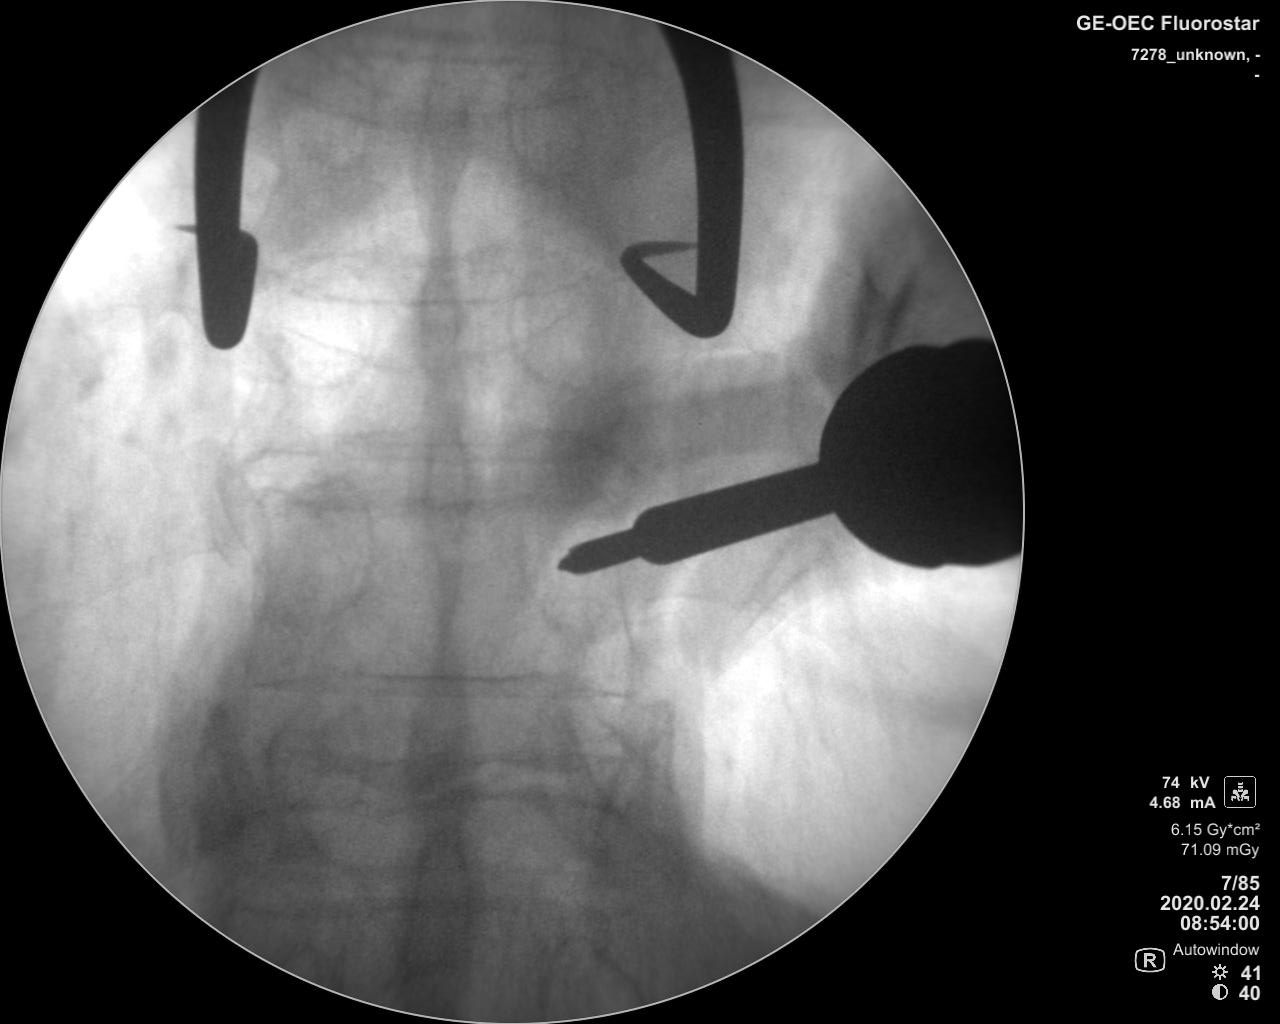eyes: (261, 478, 370, 624), (267, 252, 372, 393), (507, 262, 609, 392), (504, 63, 600, 184)
line: (261, 233, 611, 311), (248, 662, 639, 709), (258, 433, 618, 471)
nose: (408, 624, 480, 806), (410, 404, 472, 599), (402, 822, 478, 982), (399, 230, 470, 389), (406, 55, 473, 224)
